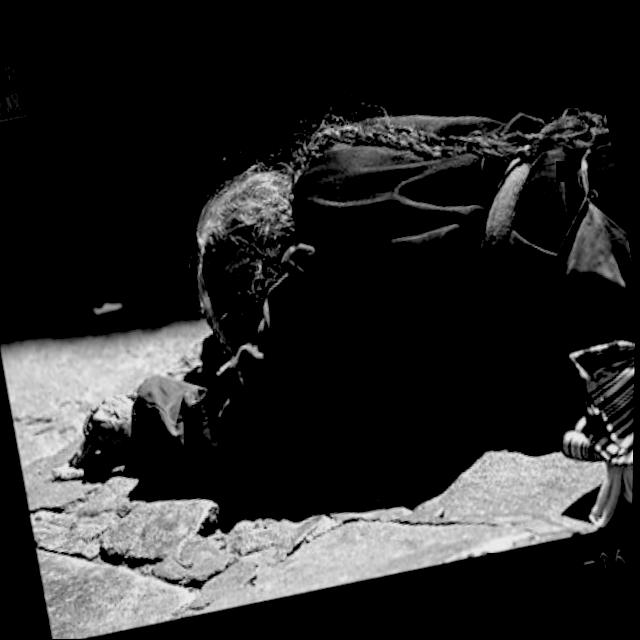Fall-Detected: (18, 46, 639, 543)
